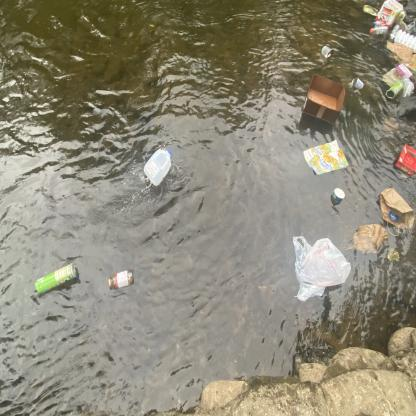trash: (289, 230, 353, 304), (300, 70, 347, 124), (376, 184, 416, 240), (30, 256, 81, 298), (302, 137, 350, 177), (343, 221, 391, 258), (141, 143, 174, 191), (382, 38, 416, 74), (389, 140, 416, 183), (378, 62, 414, 86), (375, 0, 405, 26), (107, 266, 136, 290), (391, 30, 416, 52), (382, 78, 406, 100), (328, 185, 348, 208), (399, 76, 416, 98), (364, 24, 390, 37), (388, 23, 404, 42), (361, 2, 380, 18), (320, 43, 334, 59), (352, 76, 366, 92)
